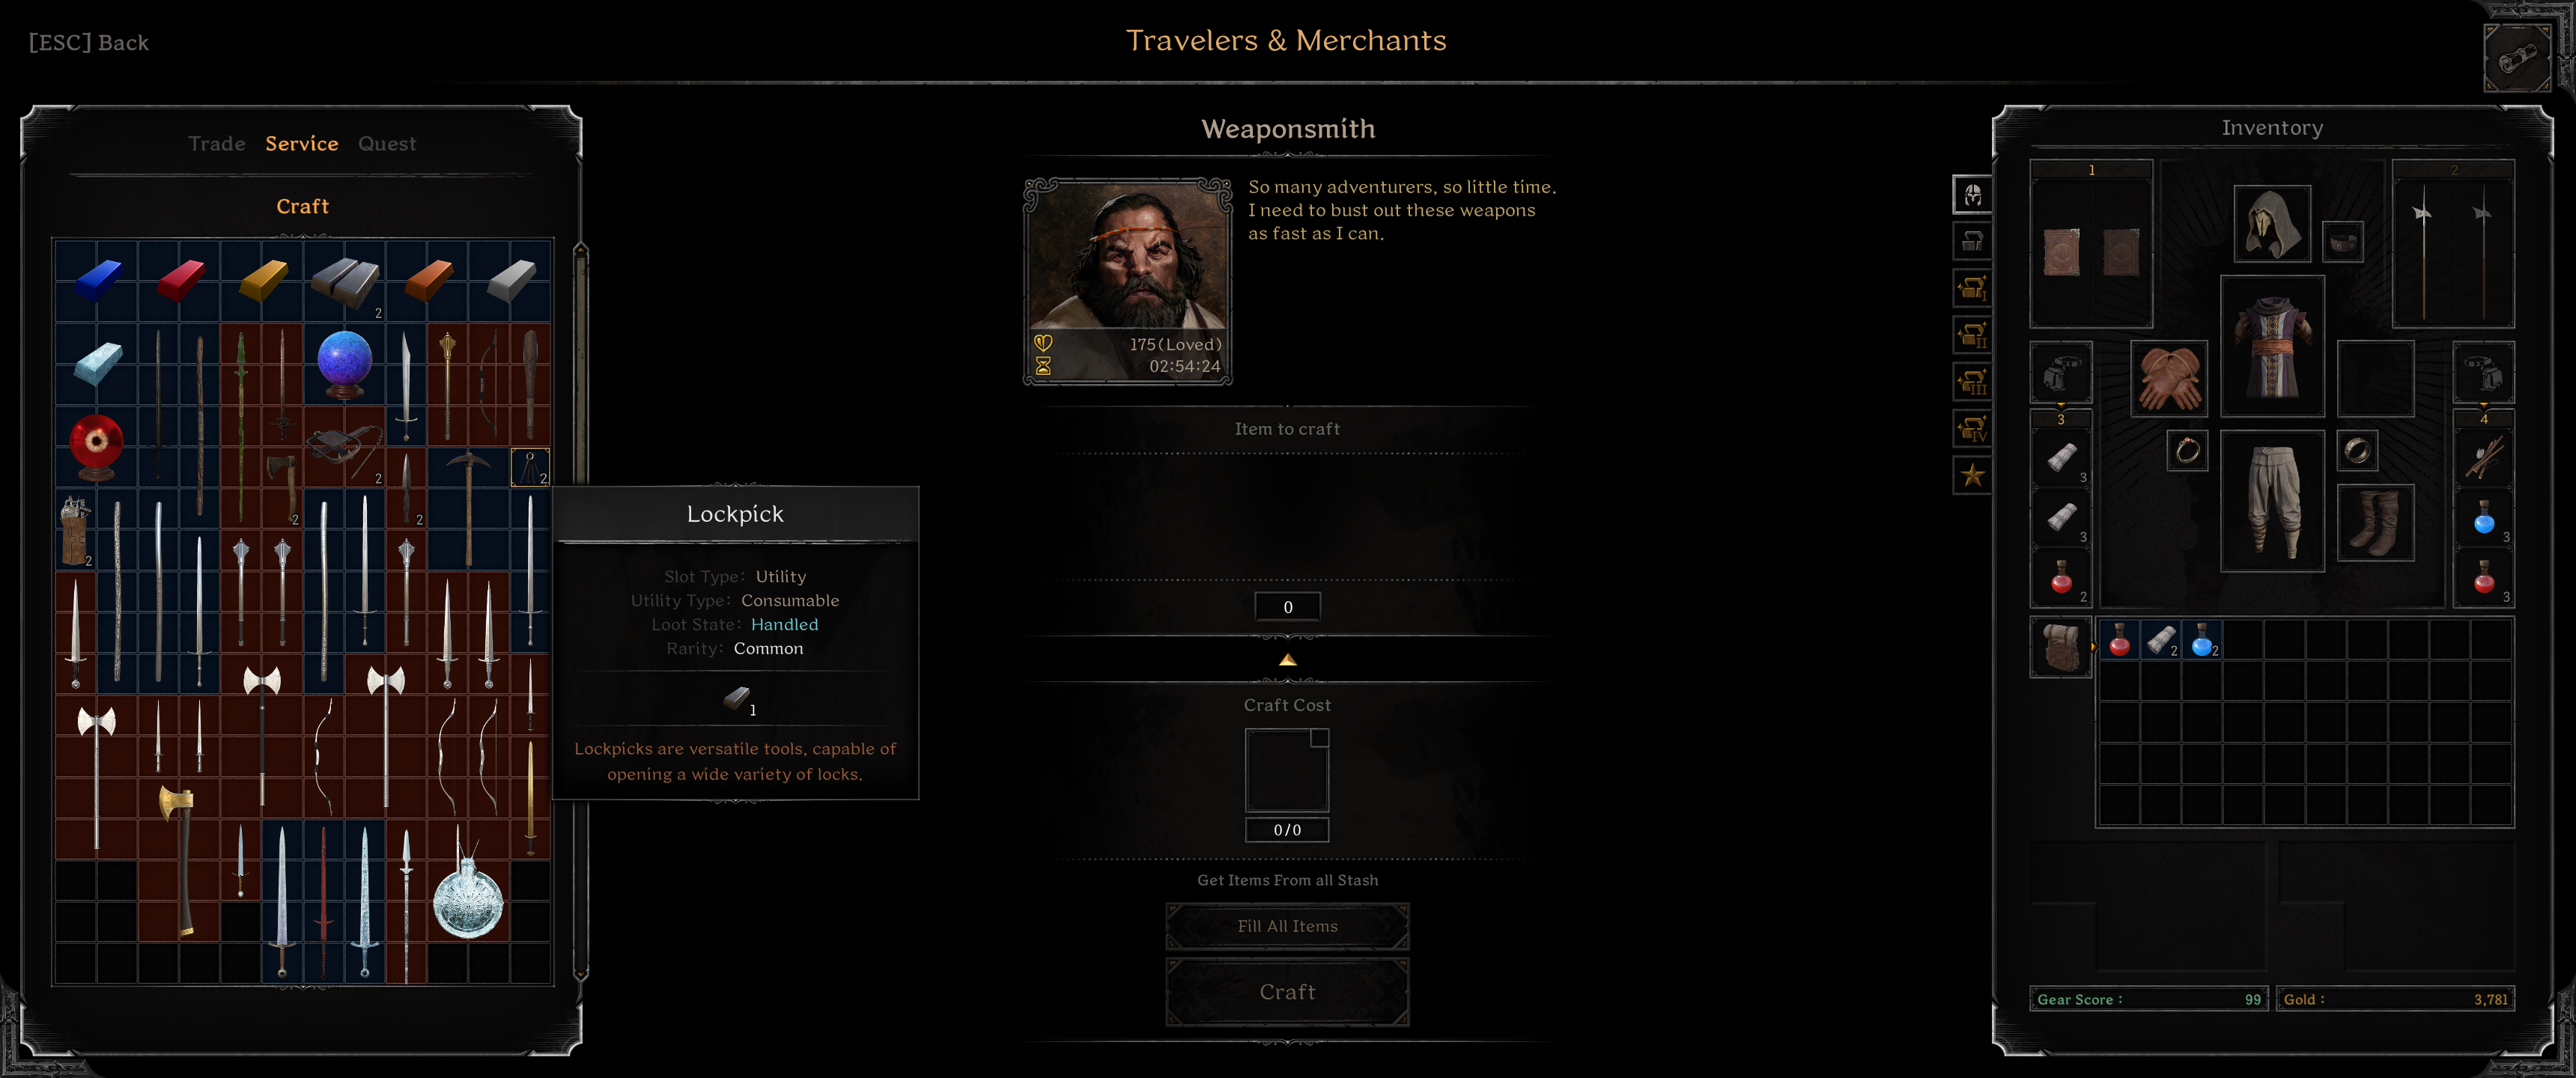Tooltip: (550, 483, 920, 802)
